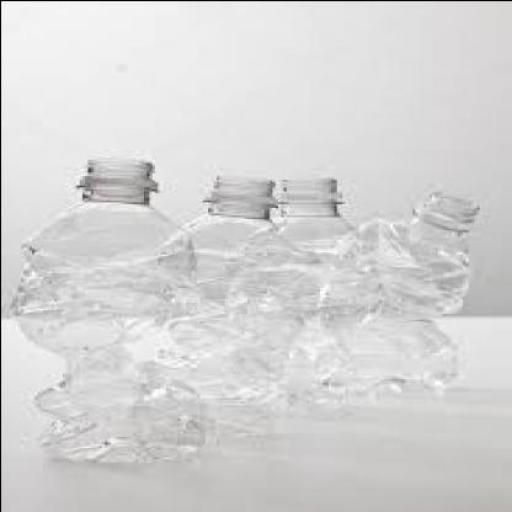plastic: (11, 156, 207, 462), (176, 169, 314, 441), (240, 171, 384, 411), (336, 184, 481, 393)
